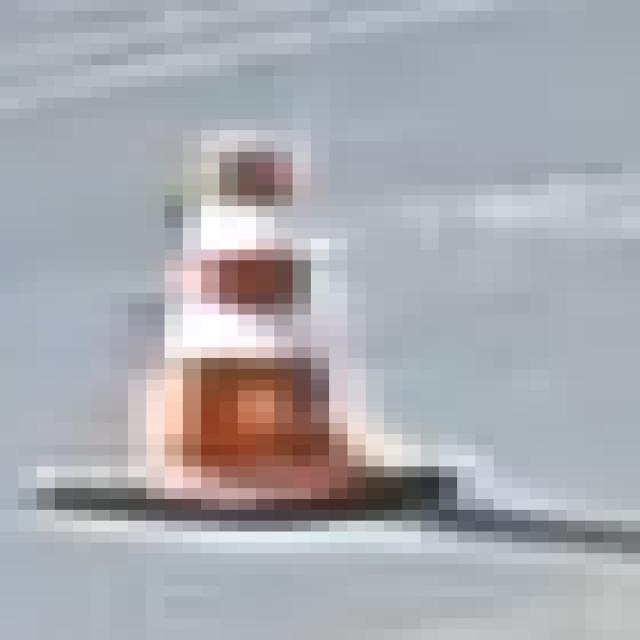small_cone: (146, 119, 439, 510)
